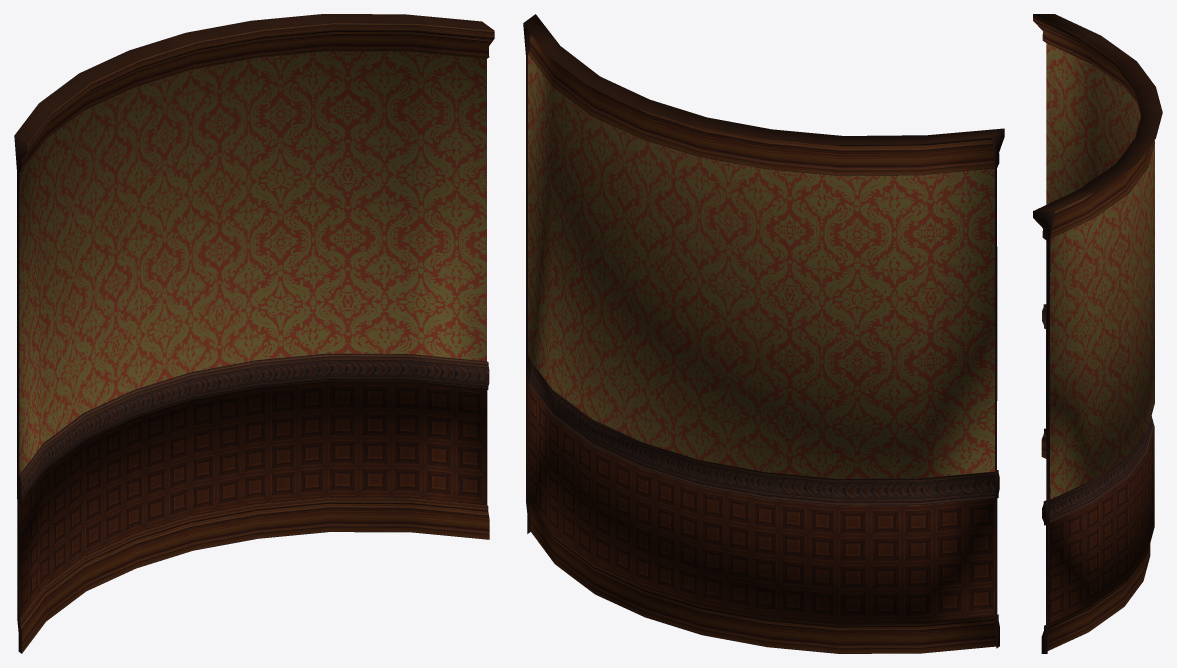
Rendered from Wall1_Curved_Sm.fbx.
The picture shows the model from 3 angles, left to right: view 1: azimuth 30°, elevation 25°; view 2: azimuth 150°, elevation 25°; view 3: azimuth 270°, elevation 25°; orthographic projection. The views are drawn at different scales.
Parts seen in each view (by area): view 1: WallSection1Med.001; view 2: WallSection1Med.001; view 3: WallSection1Med.001.
Part boxes in pixels (x1,y1,x2,y2): WallSection1Med.001: (14,14,494,653); WallSection1Med.001: (523,14,1004,653); WallSection1Med.001: (1033,14,1162,653).
Size of the model in its own units: 355 by 371 by 98.58.
